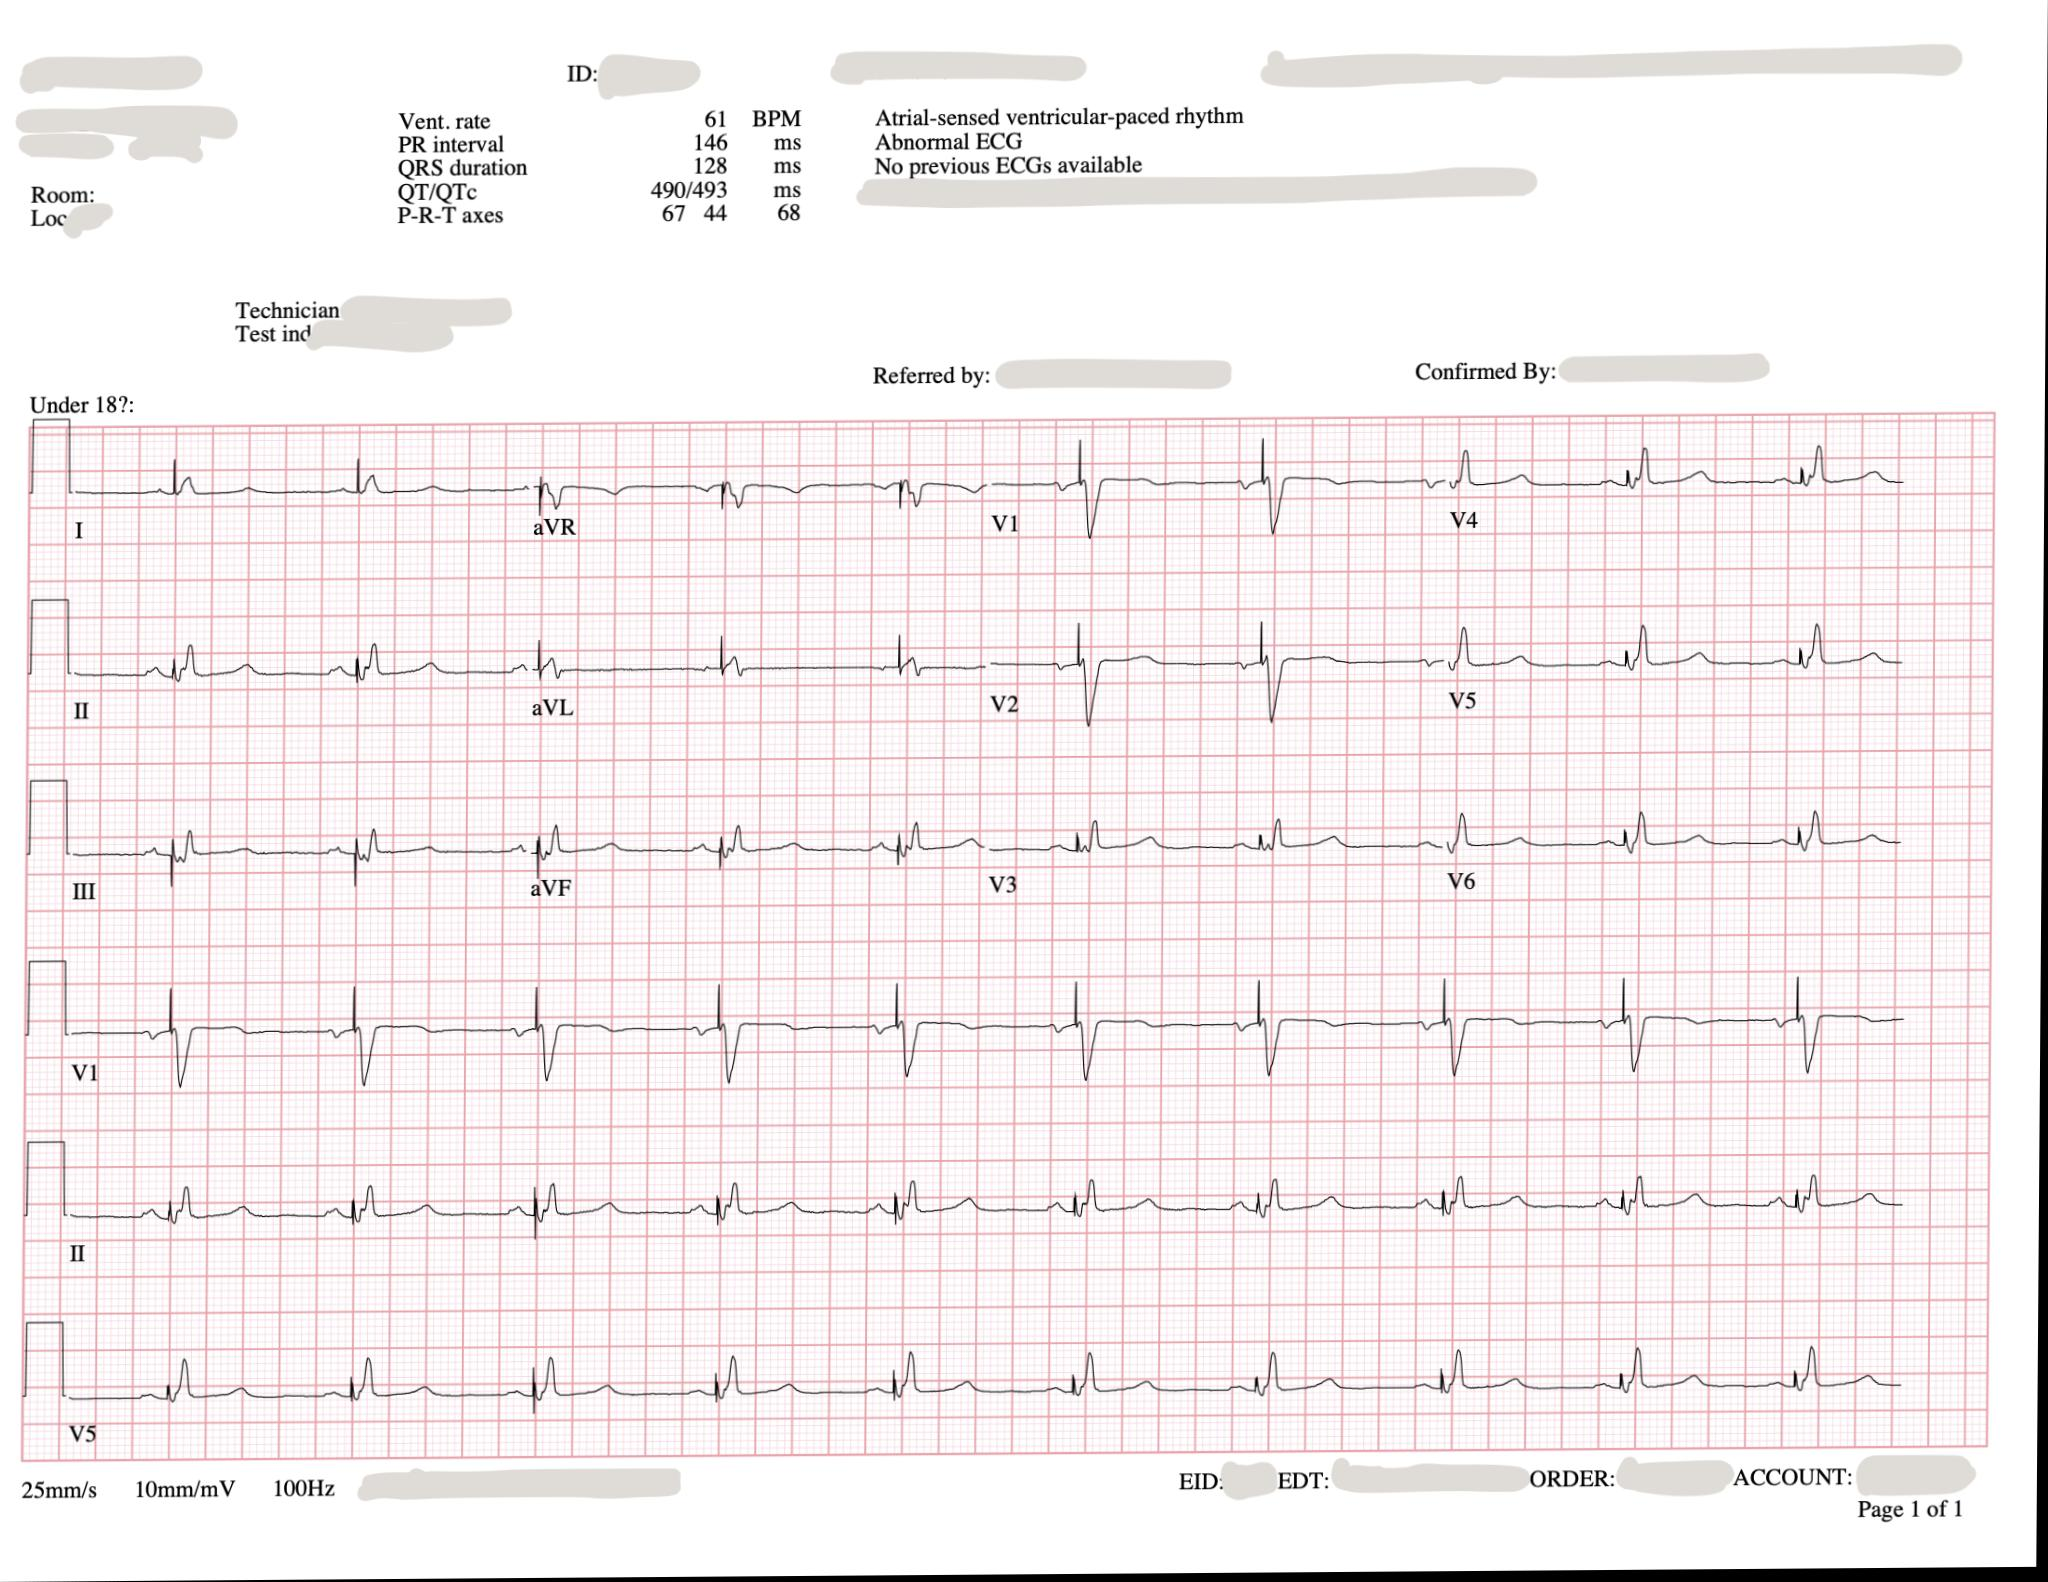Lead_I: (58, 454, 543, 563)
Lead_II: (63, 615, 540, 746)
Lead_III: (68, 803, 540, 931)
Lead_II_ext: (63, 1138, 1920, 1306)
Lead_V1: (992, 422, 1440, 573)
Lead_V2: (982, 610, 1443, 746)
Lead_V3: (983, 796, 1442, 927)
Lead_V4: (1442, 427, 1918, 567)
Lead_V5: (1447, 597, 1920, 736)
Lead_V6: (1442, 779, 1928, 932)
Lead_aVF: (522, 803, 987, 937)
Lead_aVL: (530, 626, 987, 741)
Lead_aVR: (527, 440, 988, 582)
